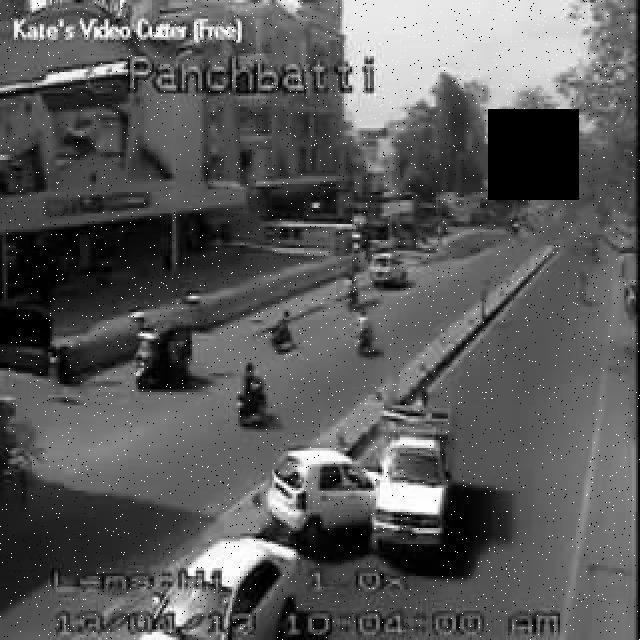accident: (262, 403, 454, 555)
vehicle: (139, 536, 302, 640), (135, 322, 193, 388), (235, 361, 265, 428), (265, 311, 304, 359), (348, 309, 380, 363), (368, 253, 410, 291), (341, 275, 365, 312)
